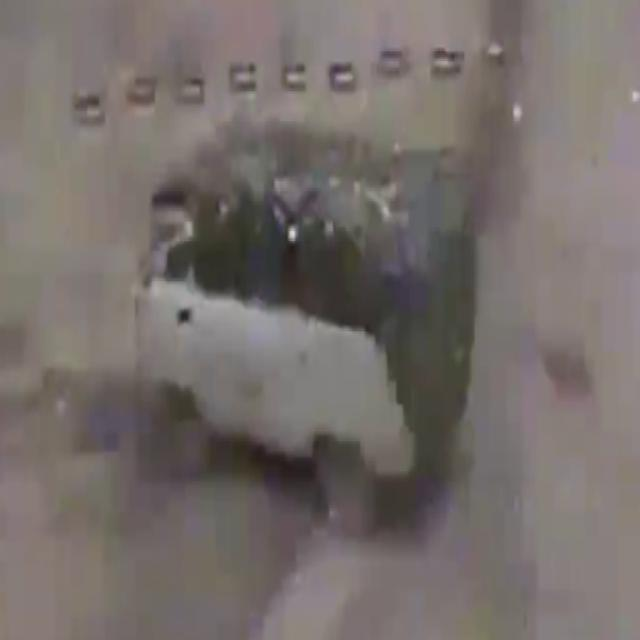CAR: (130, 164, 431, 534)
